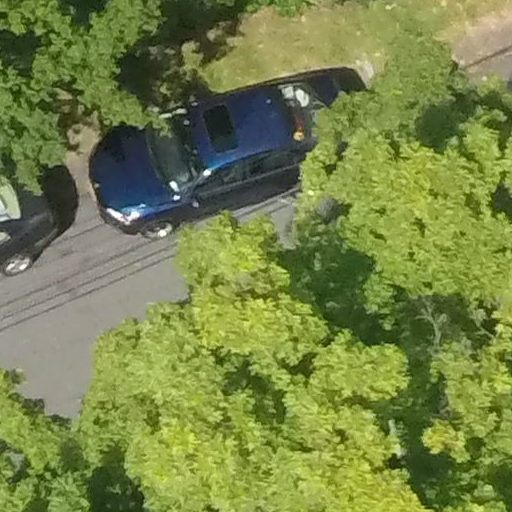car: (90, 41, 388, 250)
